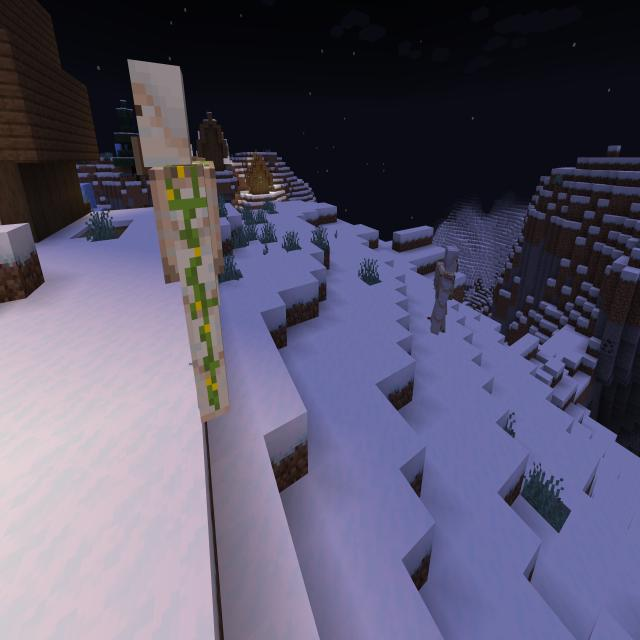Iron Golem: (124, 51, 236, 426), (428, 240, 461, 338)
